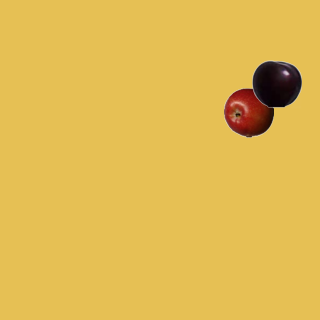Apple Braeburn: (223, 87, 273, 137)
Cherry Wax Black: (251, 58, 301, 108)
